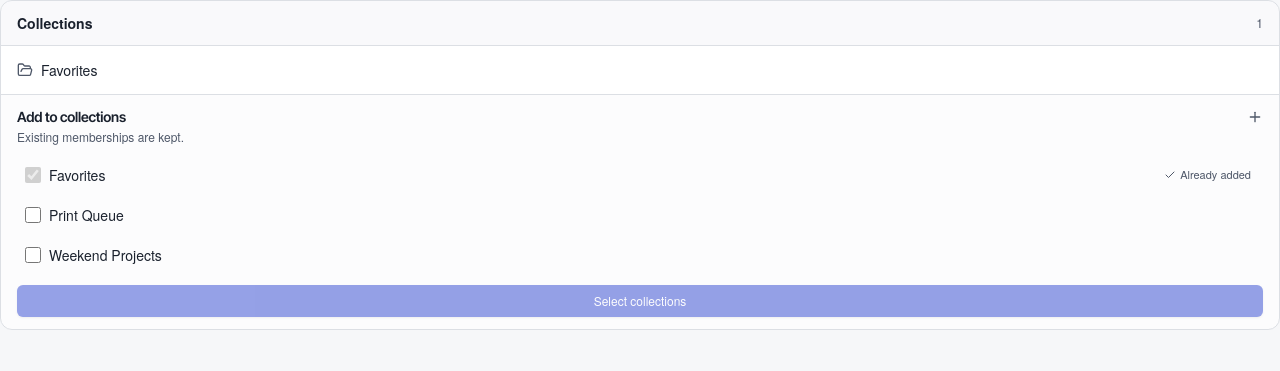
Test case: CollectionsList › should show an actionable error when adding to selected collections fails
Click the checkbox labelled "Print Queue" at (33,215), box [25,207,41,223]
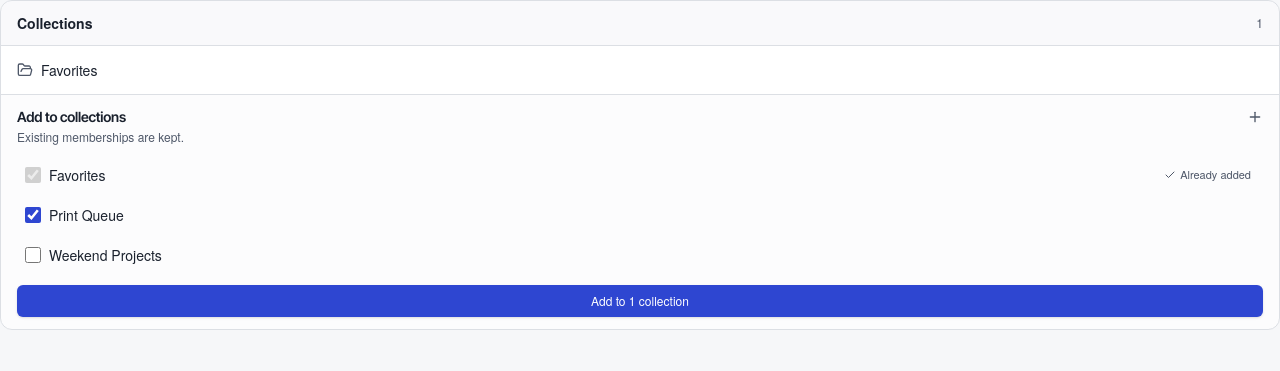
Click the button "Add to 1 collection" at (640,301), box [17,285,1263,317]
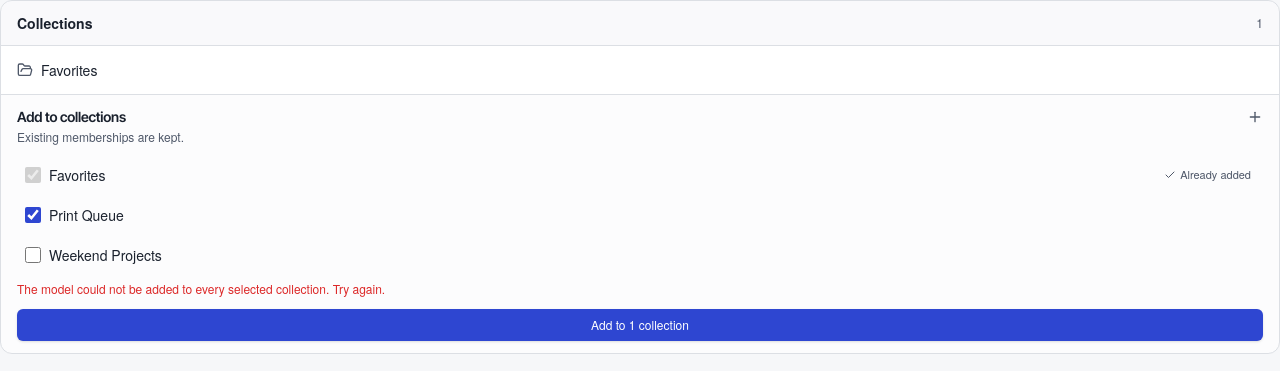
Expected: the message reads "The model could not be added to every selected collection. Try again.", [17,280,385,297]
